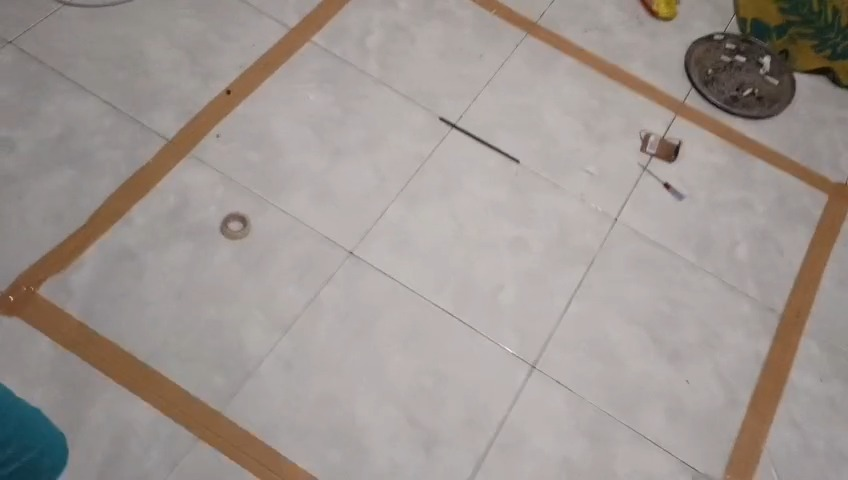floor marking: (472, 0, 847, 477), (0, 0, 348, 479)
